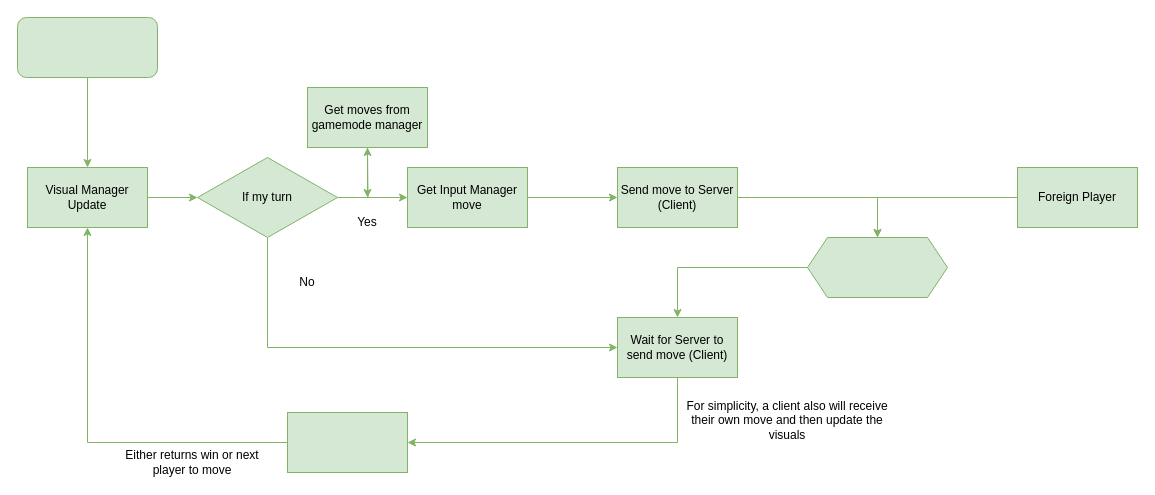
The diagram is 1155 pixels wide and 495 high, and some of its shapes have lost their labels. Here are the shapes that lost their labels. From the top down, the centre of each, then its label:
point (87, 47): Game Start
point (877, 267): Server Relay
point (347, 442): Game manager OnMove
